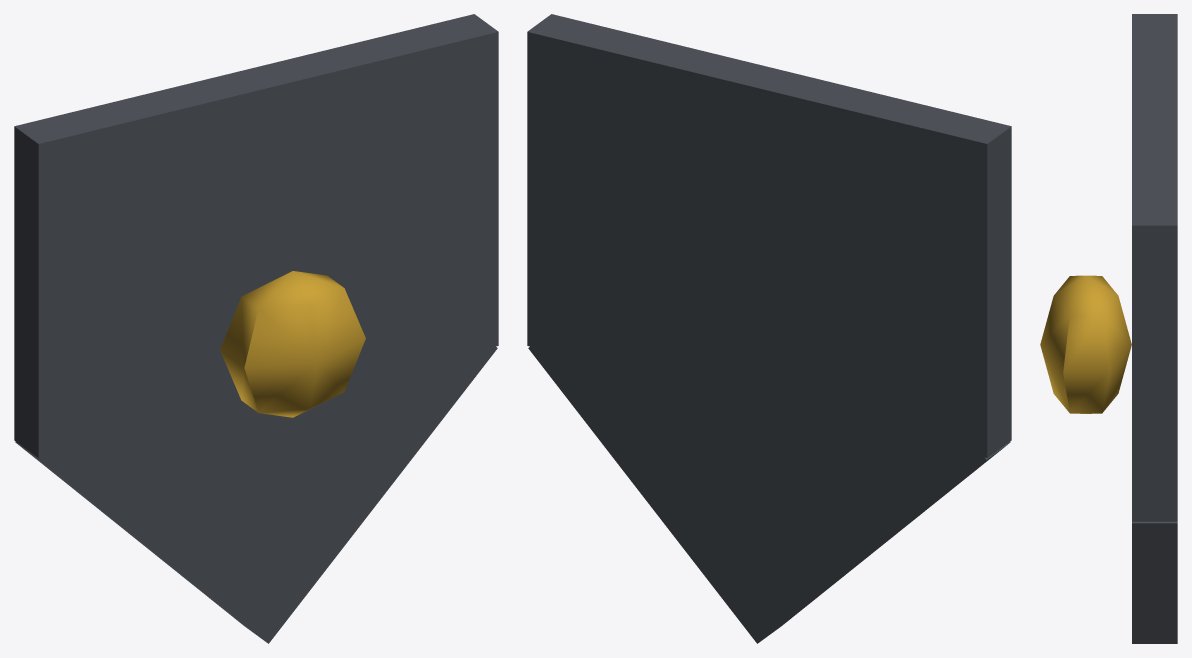
Rendered from ppl_shield_rim.glb.
3 renders of one model, left to right at view 1: azimuth 30°, elevation 25°; view 2: azimuth 150°, elevation 25°; view 3: azimuth 270°, elevation 25°, orthographic. The views are drawn at different scales.
Visible parts, largest first — view 1: ppl_shield_rim; view 2: ppl_shield_rim; view 3: ppl_shield_rim.
Part boxes in pixels (box(x1,y1,x2,y2)): ppl_shield_rim: box(14, 14, 498, 643); ppl_shield_rim: box(527, 14, 1011, 643); ppl_shield_rim: box(1040, 14, 1177, 643).
Bounding box in the file's own units: 0.1311 × 0.1514 × 0.036.
